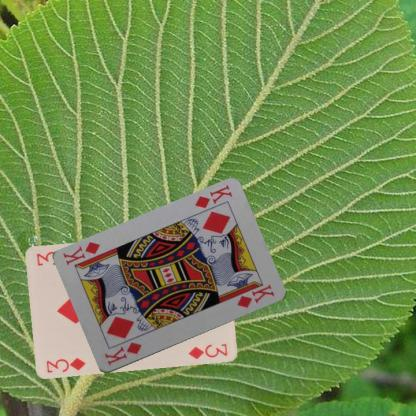3d: (44, 355, 87, 374)
Kd: (192, 182, 234, 210), (102, 340, 142, 367)
